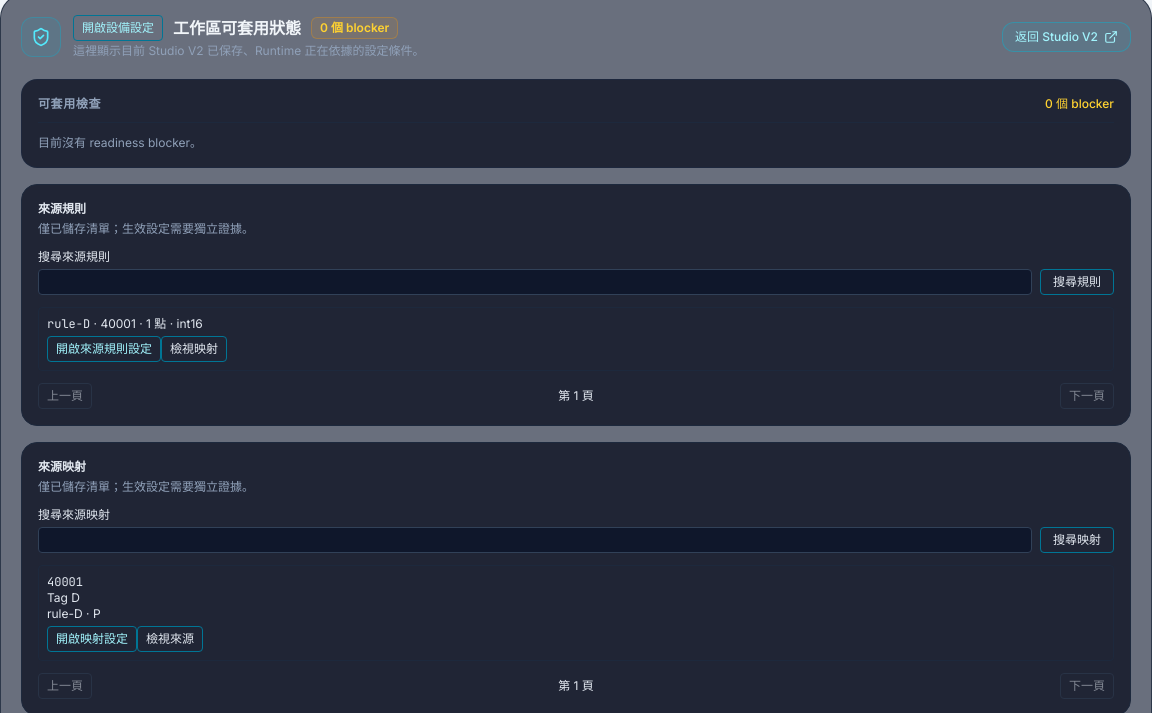
Scenario: single selected-device source inspection › uses localized saved-only and unavailable evidence copy in Traditional Chinese
This screenshot has width=1152, height=713.
Click the button with aria-label "檢視來源 40001": (170, 639) [137, 626, 203, 652]
(page scrolled)
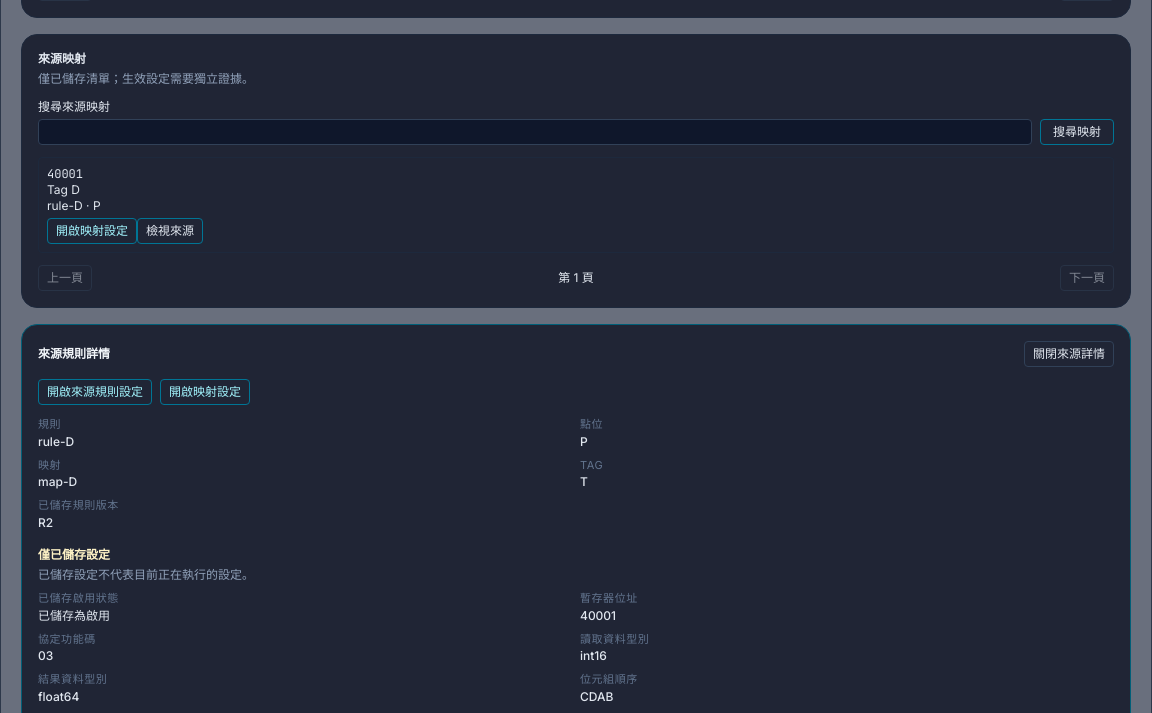
Result: the heading "僅已儲存設定" is shown at [38, 547, 110, 562]
Result: the button "關閉來源詳情" is enabled at [1024, 341, 1114, 367]
